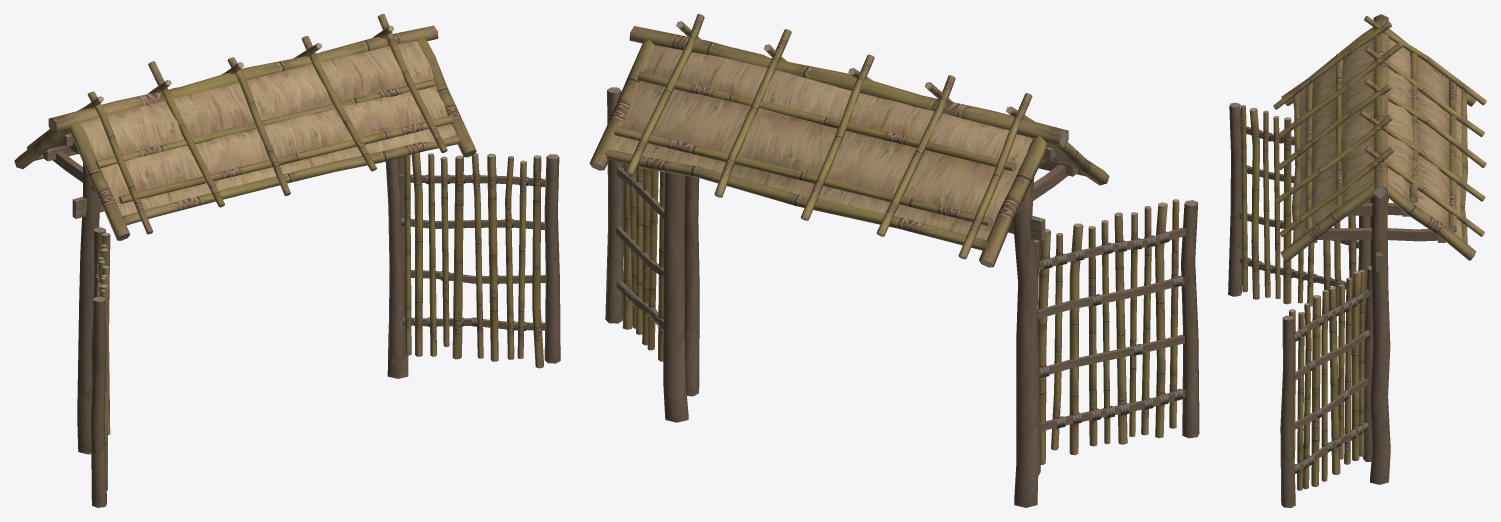
The model's file is Homeworld_Exterior_Dq_Build_House_23_Lod0.fbx.
3 views of the same model, side by side, from view 1: azimuth 30°, elevation 25°; view 2: azimuth 150°, elevation 25°; view 3: azimuth 270°, elevation 25° (orthographic). The views are drawn at different scales.
Parts seen in each view (by area): view 1: Area_Dq_Prop_Common_Door_01_Lod0; view 2: Area_Dq_Prop_Common_Door_01_Lod0; view 3: Area_Dq_Prop_Common_Door_01_Lod0.
Part boxes in pixels (<box>): Area_Dq_Prop_Common_Door_01_Lod0: <box>14,14,560,507</box>; Area_Dq_Prop_Common_Door_01_Lod0: <box>589,14,1199,507</box>; Area_Dq_Prop_Common_Door_01_Lod0: <box>1228,14,1486,507</box>.
Bounding box in the file's own units: 5.24 × 3.66 × 2.58.
